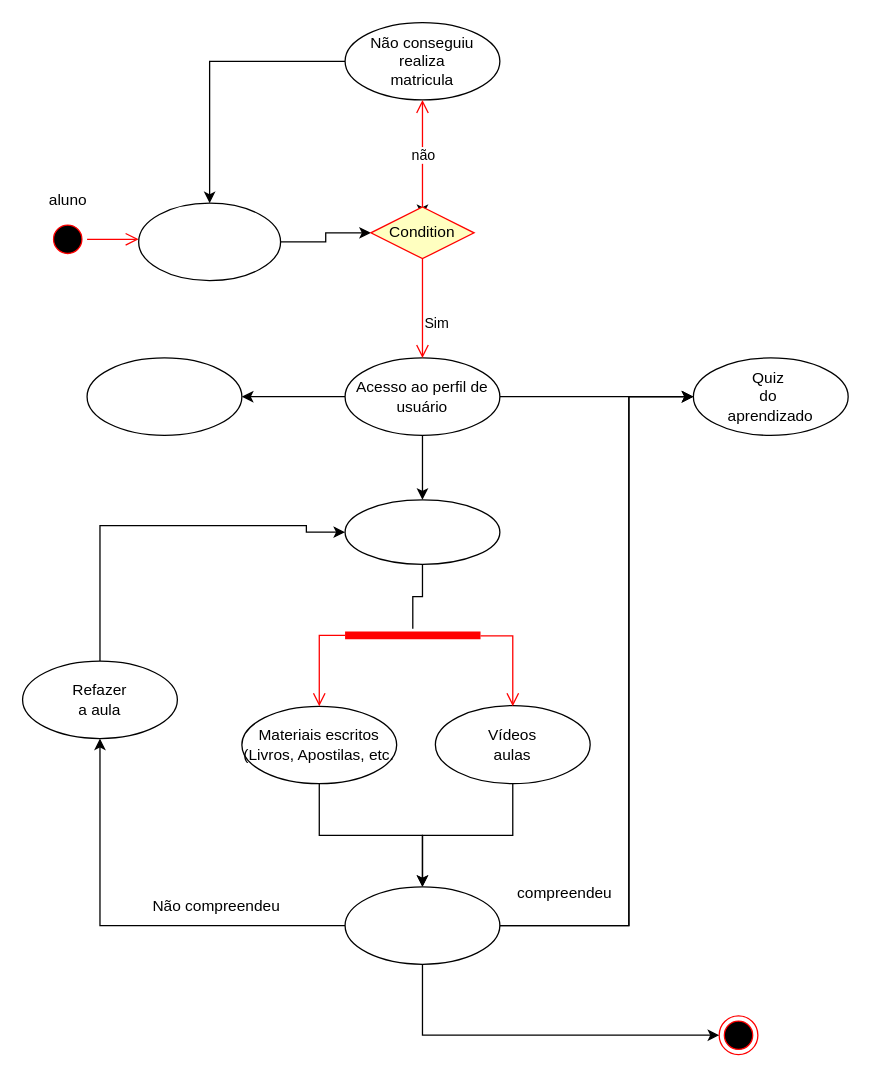
Image size: 871x1077. Some labels were removed from this diagram. The shapes that lost their labels are listed below. From the top down, each one's centre as x and y in pixels, then its label:
At [209,241]: "Castrado de usuario".
At [164,396]: "consulta de level".
At [422,531]: "Trilha de aprendizado".
At [422,925]: "Termino de Aula".
